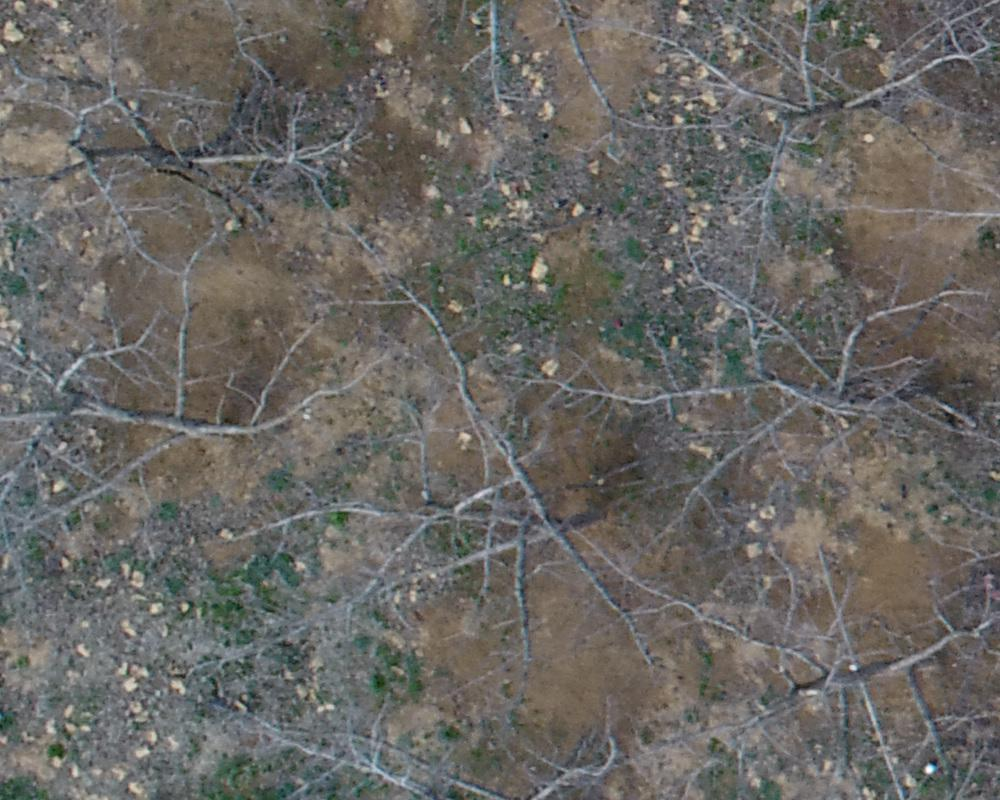apple: (244, 181, 707, 695), (485, 231, 990, 545), (10, 242, 393, 563), (572, 505, 990, 790), (576, 10, 990, 266), (17, 36, 396, 275), (222, 10, 666, 155)
